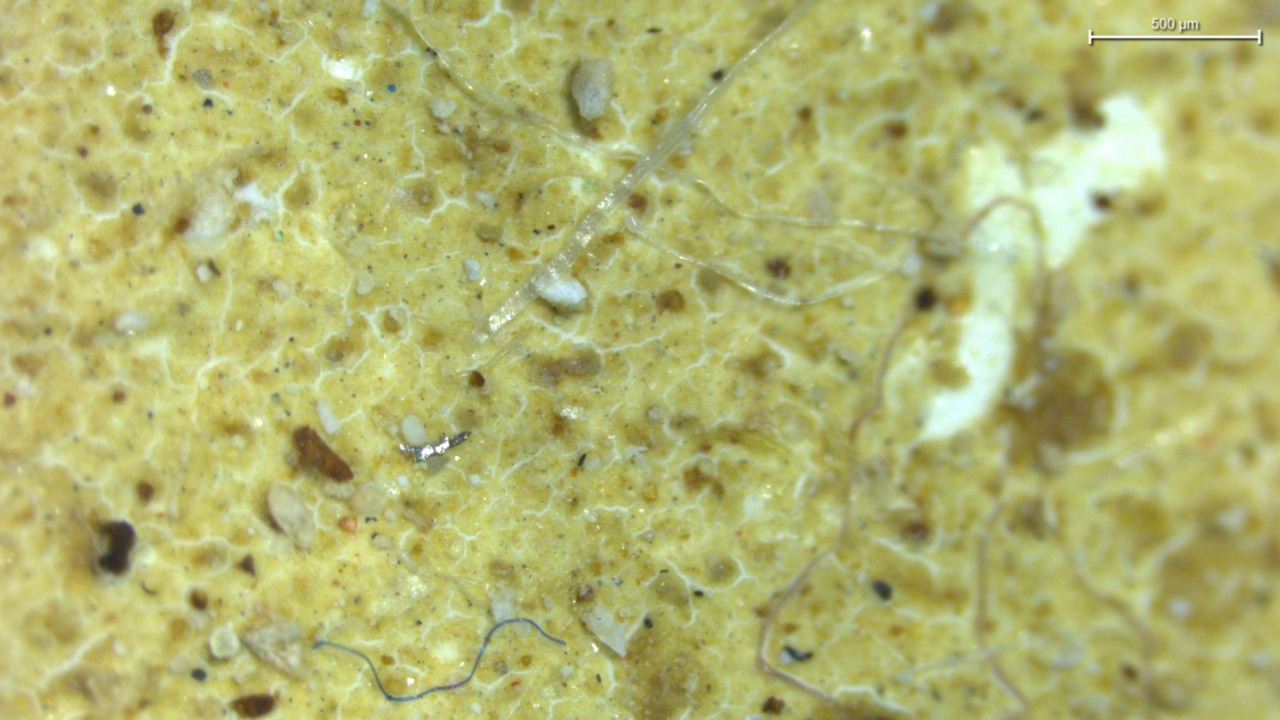microplastic_fragment: (267, 481, 315, 549), (572, 60, 614, 120)
